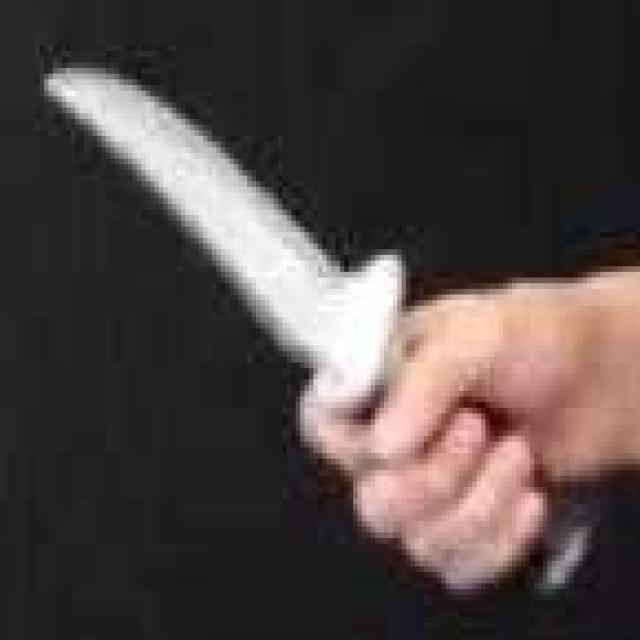knife: (38, 44, 640, 639)
